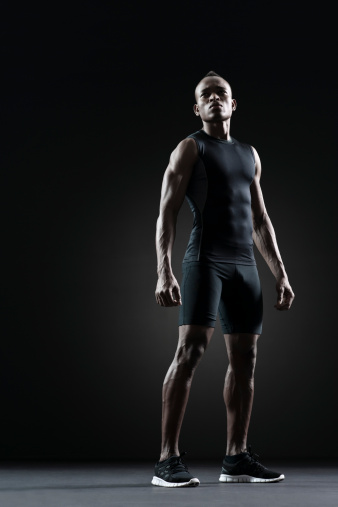em pe: (143, 66, 287, 493)
